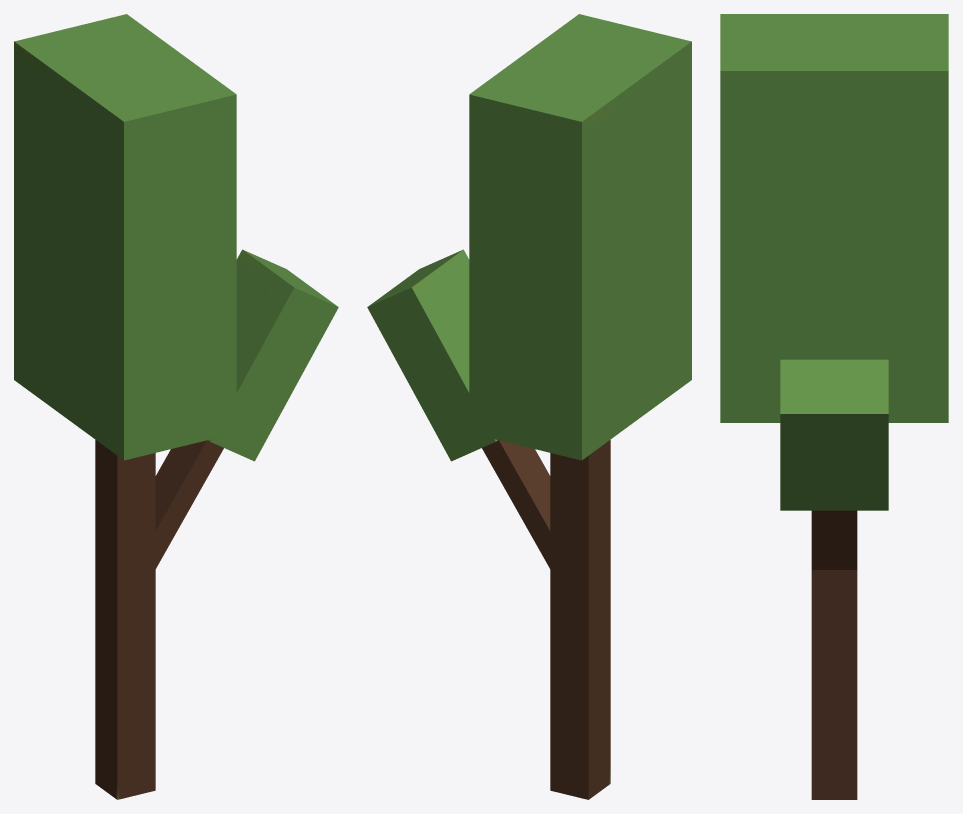
File: SaruntanTree_1.1.fbx
The picture shows the model from 3 angles, left to right: view 1: azimuth 30°, elevation 25°; view 2: azimuth 150°, elevation 25°; view 3: azimuth 270°, elevation 25°; orthographic projection. The views are drawn at different scales.
Visible parts, largest first — view 1: Cube; view 2: Cube; view 3: Cube.
Boxes of the visible parts, x1=… form: Cube: x1=14, y1=14, x2=338, y2=799; Cube: x1=367, y1=14, x2=691, y2=799; Cube: x1=720, y1=14, x2=948, y2=799.
Size of the model in its own units: 1276 by 3599 by 997.
Materials: 1 (1 with a texture image).
